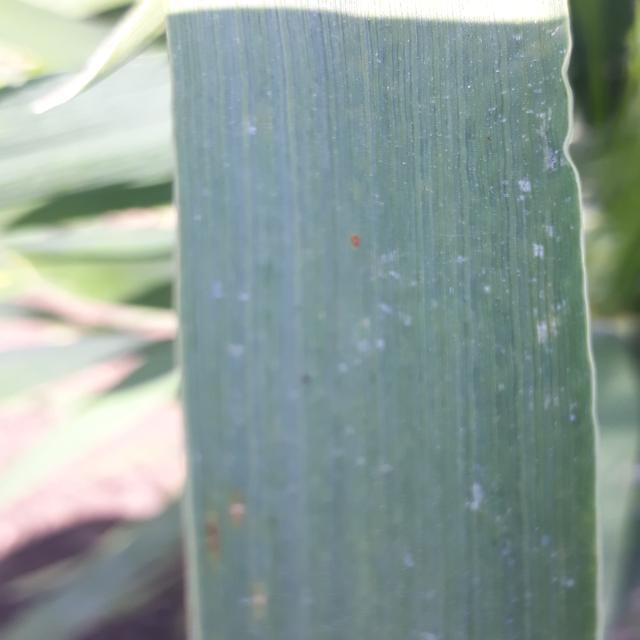orang_rust: (166, 453, 296, 640), (327, 214, 401, 274)
